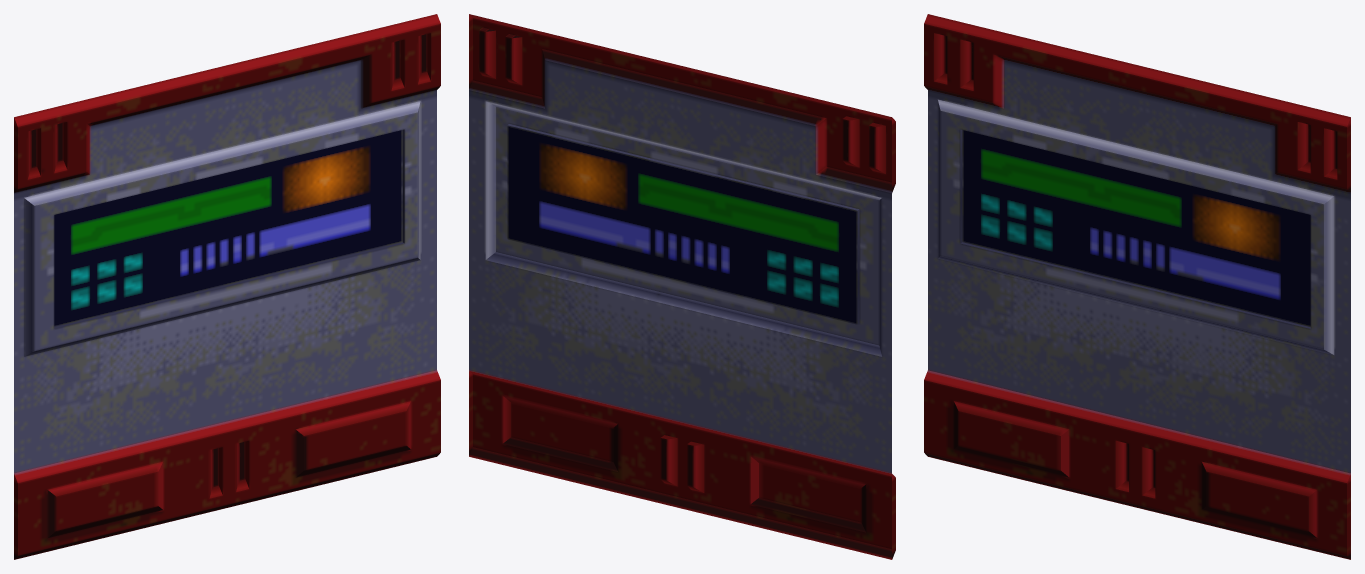
The model's file is sci1_8.fbx.
The picture shows the model from 3 angles, left to right: view 1: azimuth 30°, elevation 25°; view 2: azimuth 150°, elevation 25°; view 3: azimuth 330°, elevation 25°; orthographic projection.
Parts seen in each view (by area): view 1: sci1_8; view 2: sci1_8; view 3: sci1_8.
Boxes of the visible parts, box(x1,y1,x2,y2) form: sci1_8: box(14, 14, 440, 559); sci1_8: box(469, 14, 895, 559); sci1_8: box(924, 14, 1350, 559).
Size of the model in its own units: 256 by 256 by 6.
